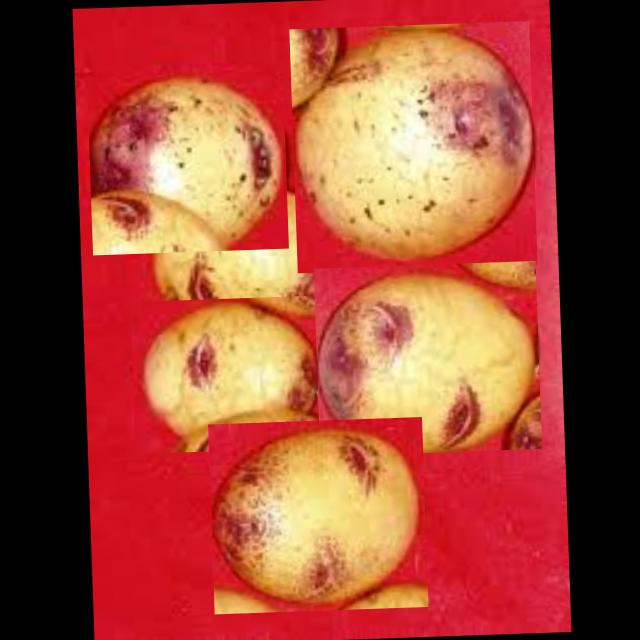Diseased-fungal potato: (288, 21, 536, 272), (312, 260, 540, 457), (206, 416, 428, 614), (85, 70, 288, 255), (146, 183, 350, 342), (130, 296, 318, 454)
